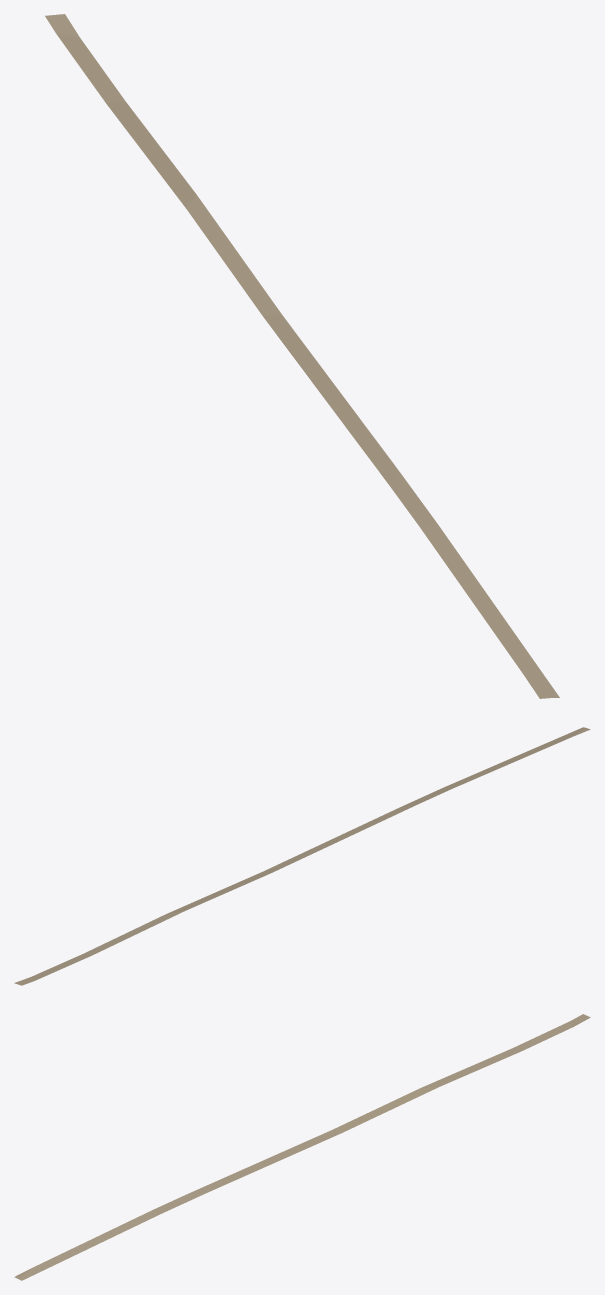
The model's file is farm_-18_-26_track.glb.
3 views of the same model, one above another, from view 1: azimuth 30°, elevation 25°; view 2: azimuth 150°, elevation 25°; view 3: azimuth 330°, elevation 25° (orthographic). The views are drawn at different scales.
Parts seen in each view (by area): view 1: geometry_0; view 2: geometry_0; view 3: geometry_0.
Part boxes in pixels (x1,y1,x2,y2): geometry_0: (45,14,559,698); geometry_0: (14,727,590,985); geometry_0: (14,1014,590,1280).
Size of the model in its own units: 60.66 by 1.62 by 253.
